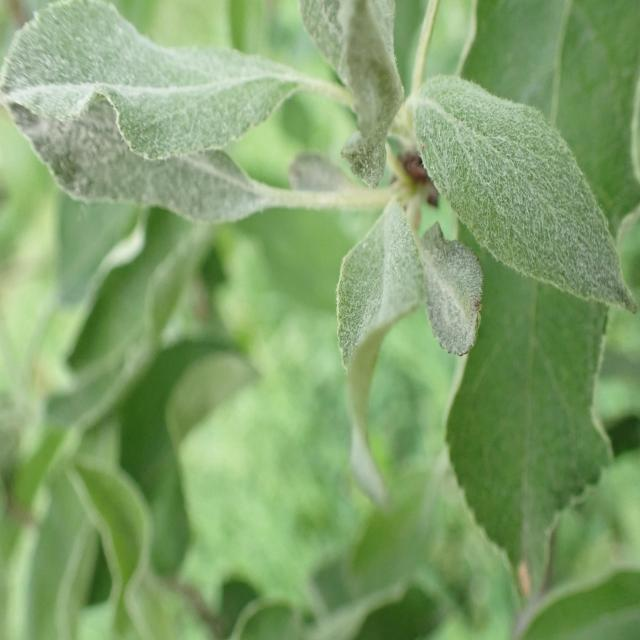Powdery_mildew: (383, 70, 635, 330), (0, 94, 327, 260), (3, 0, 320, 155), (325, 188, 418, 558), (296, 0, 416, 171), (406, 206, 488, 382)
